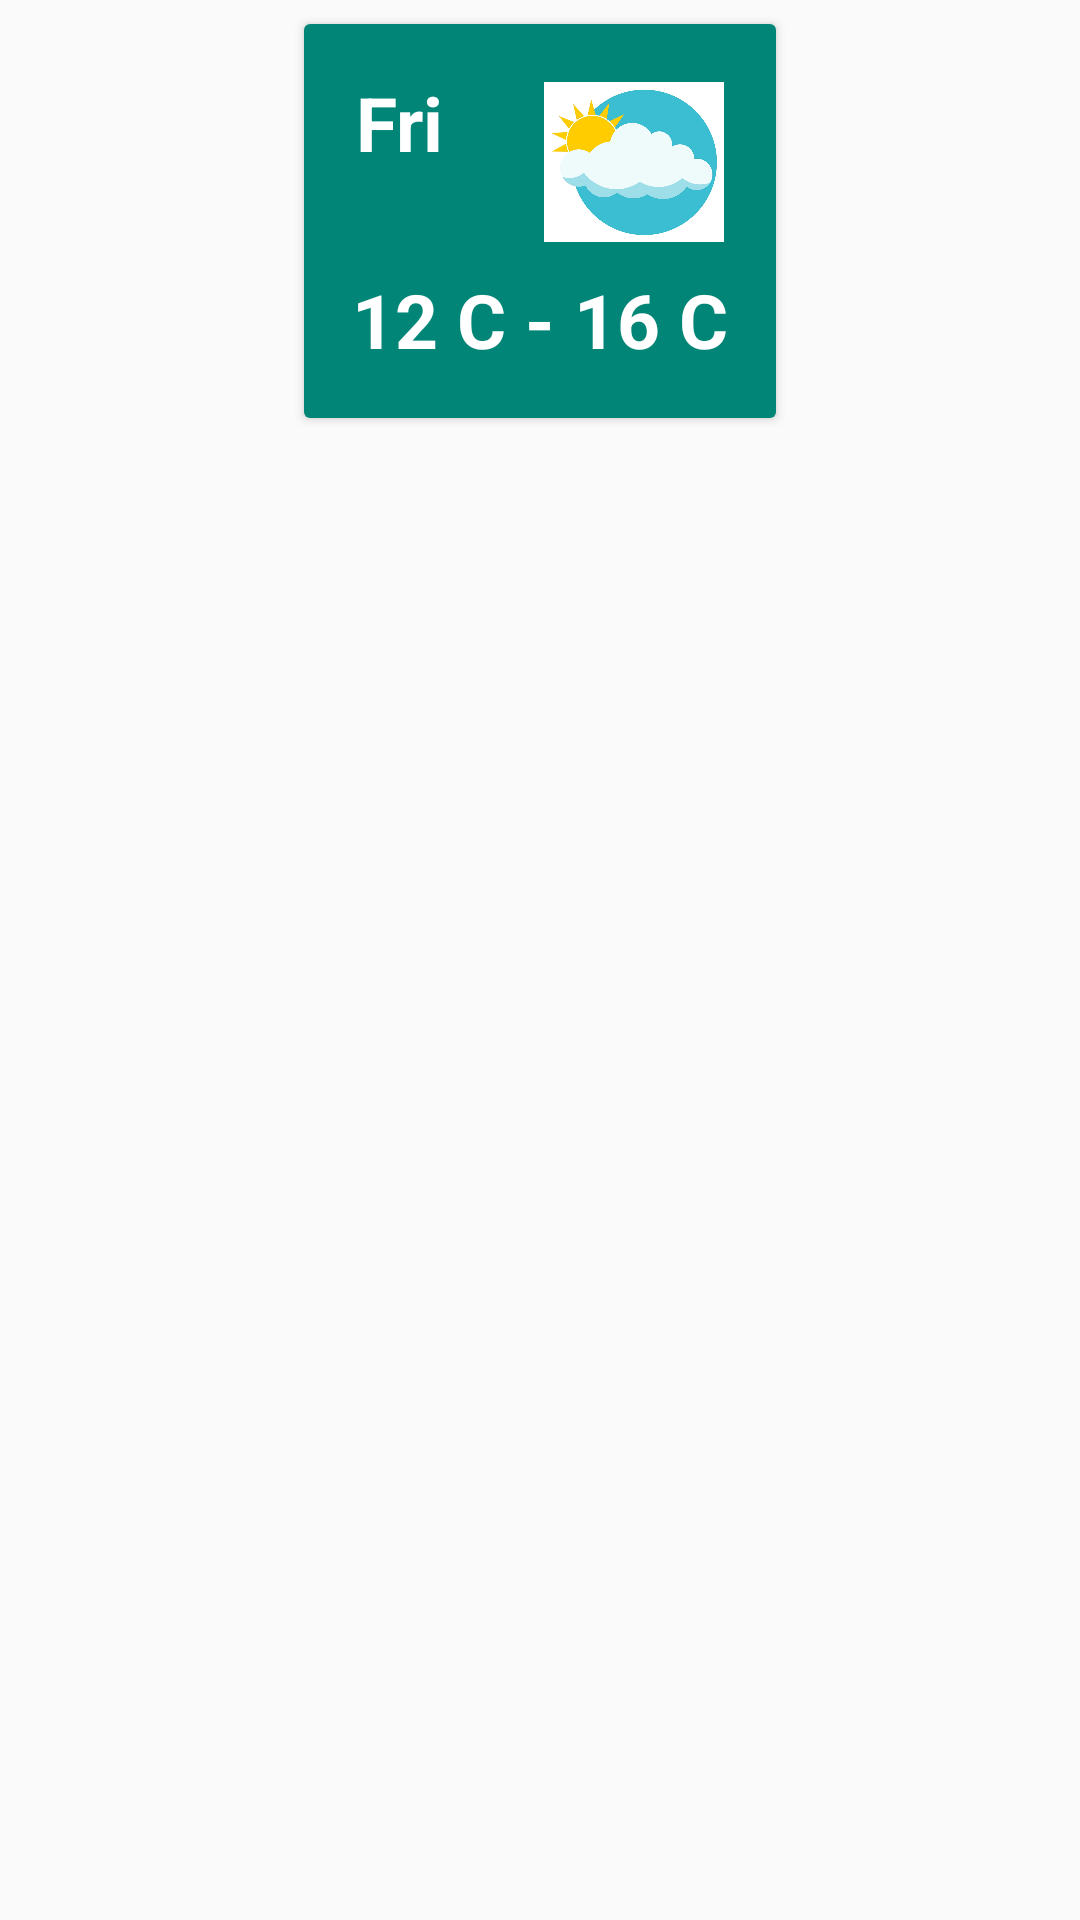

Named icons in this screenshot (1080*1920) and their bounding boxes, Rect(x1, y1, x2, y2):
partlycloudy: Rect(544, 82, 724, 242)
